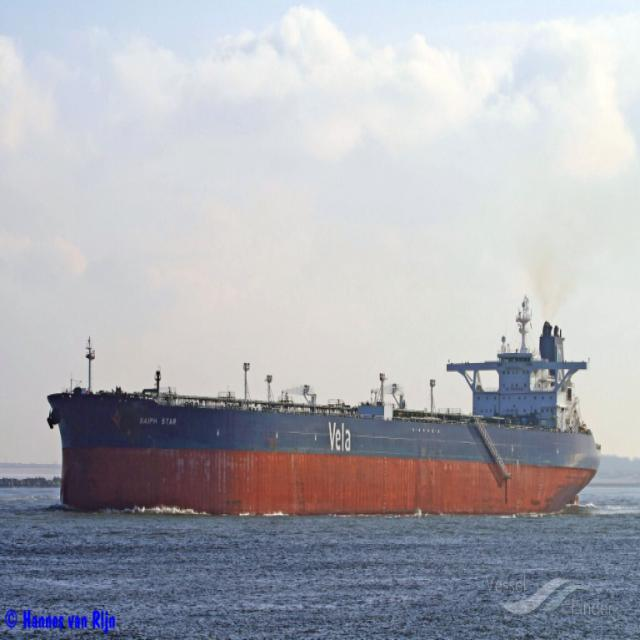Oil Tanker: (47, 294, 600, 515)
